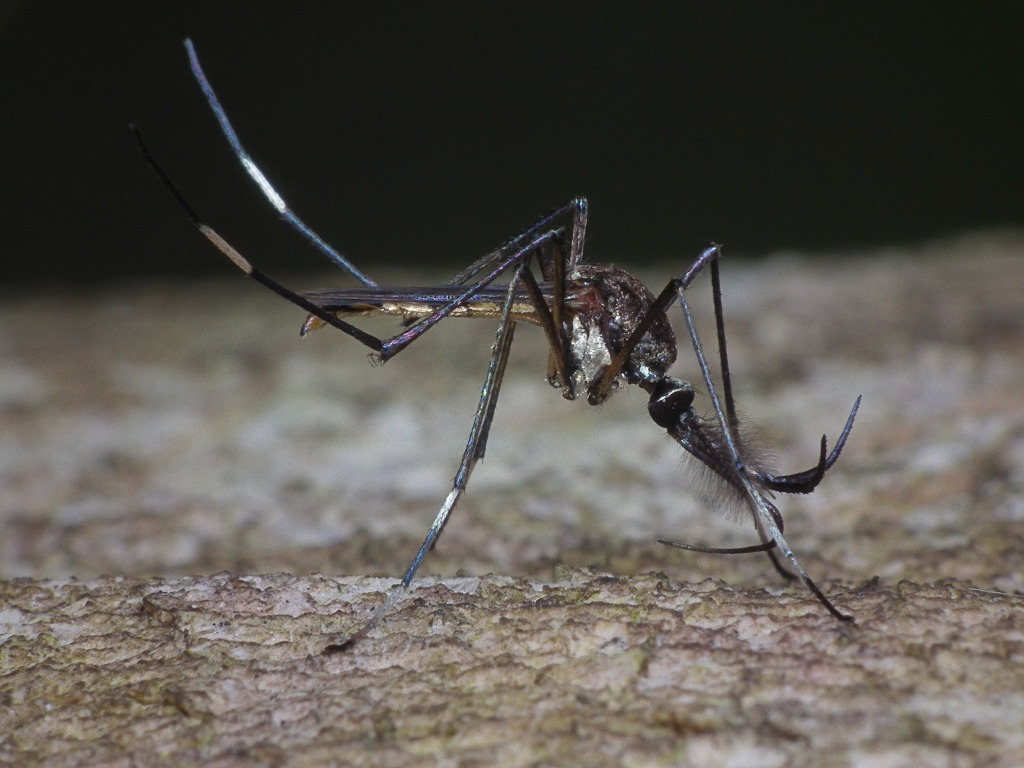person: (534, 263, 699, 434)
